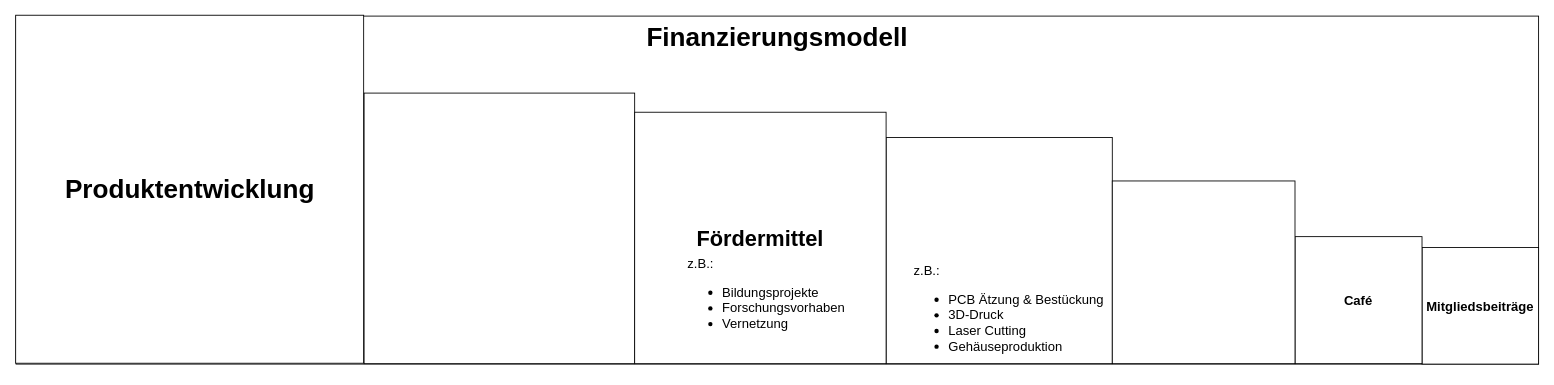
Image size: 1554x385. Some labels were removed from this diagram. The shapes that lost their labels are listed below. From the top down, each one's box as (x1, y1, x2, y2) in pixels, then its label:
(363, 92, 635, 364): Zertifizierung
(885, 137, 1112, 364): Auftragsproduktion
(1111, 180, 1295, 364): Beratung und Begleitung
